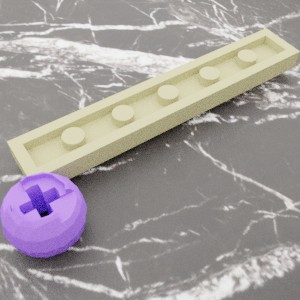lego: (6, 28, 299, 195), (0, 171, 86, 257)
